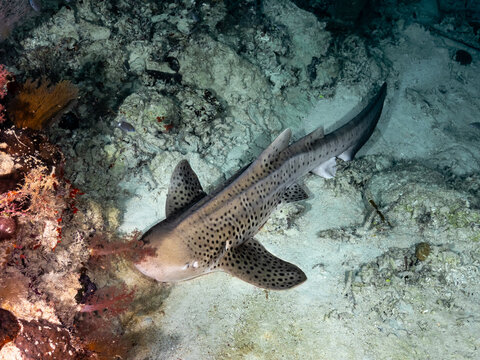Leopard Shark: (93, 79, 425, 313), (386, 106, 391, 109)
